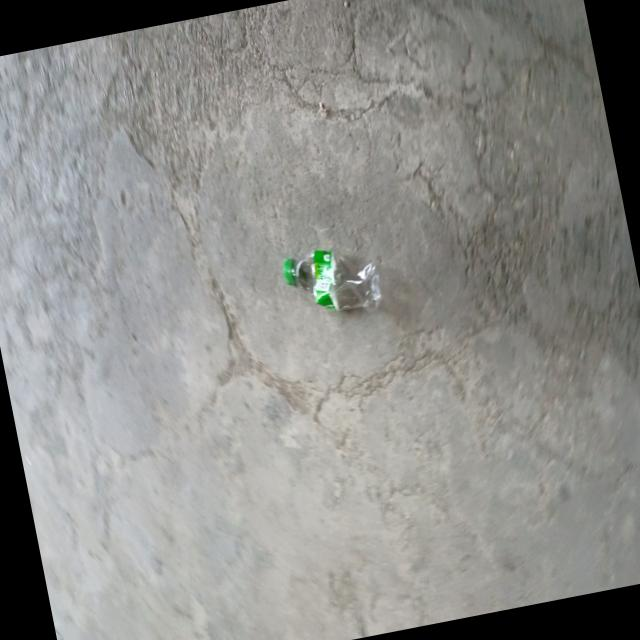Bottle: (282, 249, 381, 312)
